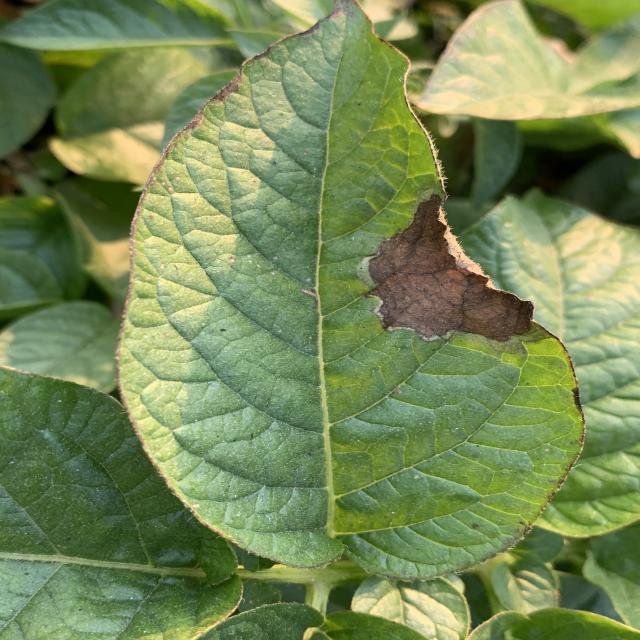lateblight: (368, 195, 533, 341)
